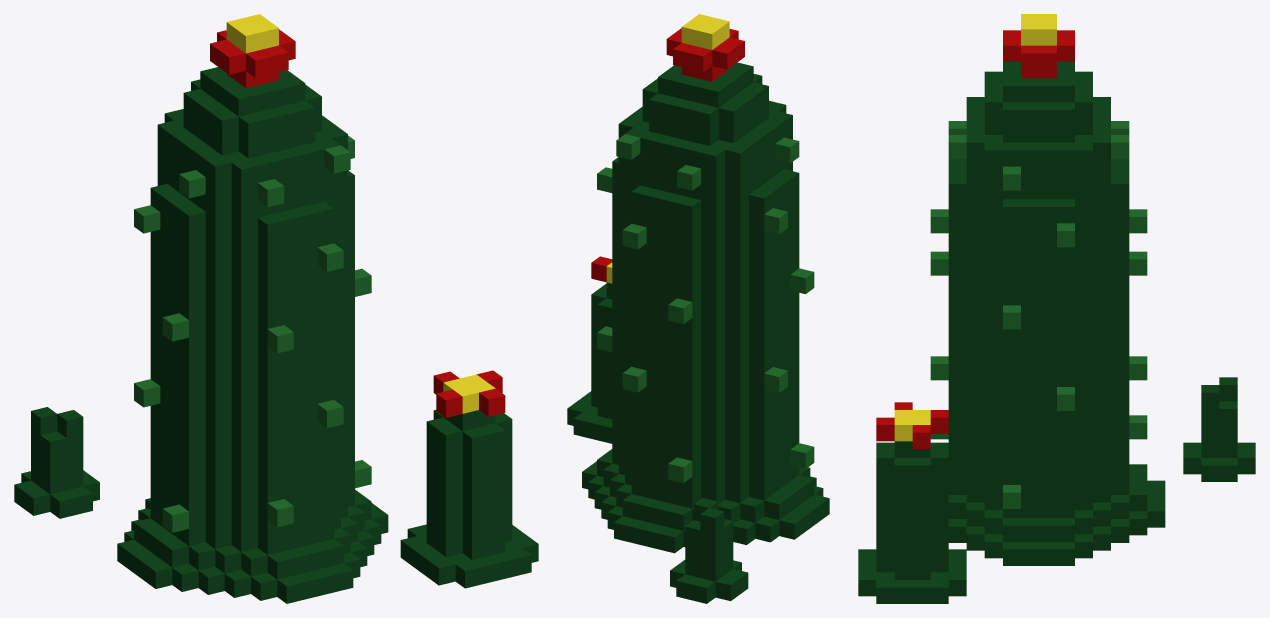
The model's file is Background_B_tree_03.FBX.
The picture shows the model from 3 angles, left to right: view 1: azimuth 30°, elevation 25°; view 2: azimuth 150°, elevation 25°; view 3: azimuth 270°, elevation 25°; orthographic projection. The views are drawn at different scales.
Parts seen in each view (by area): view 1: untitled-14; view 2: untitled-14; view 3: untitled-14.
Part boxes in pixels (x1=…): untitled-14: x1=14, y1=14, x2=538, y2=603; untitled-14: x1=567, y1=14, x2=829, y2=603; untitled-14: x1=858, y1=14, x2=1255, y2=603.
Size of the model in its own units: 2 by 3 by 2.2.
Materials: 1 (1 with a texture image).
